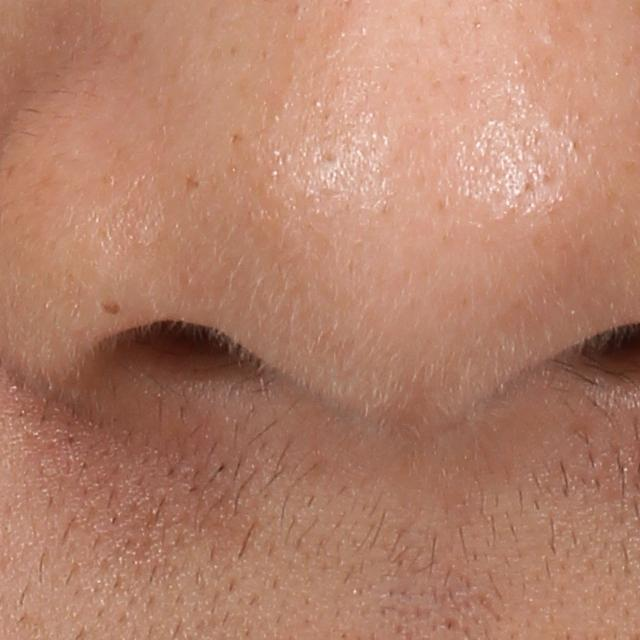nevus: (94, 293, 125, 316)
